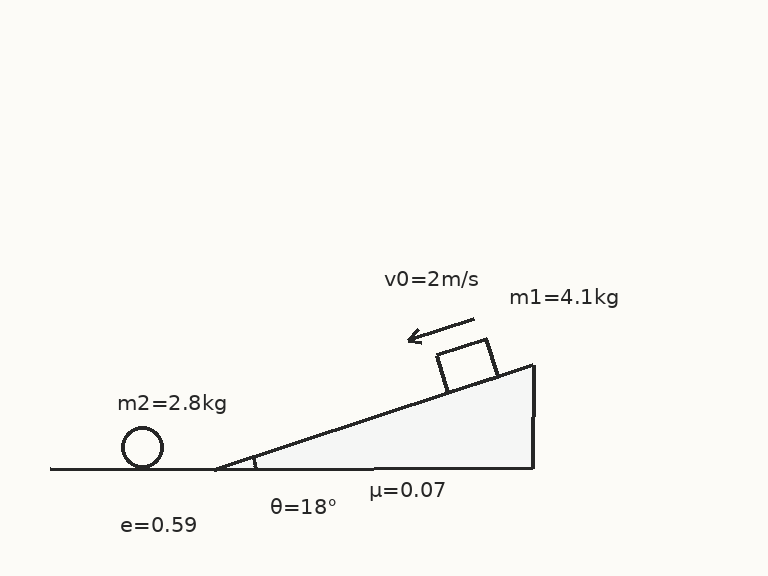ball: (119, 424, 165, 470)
block: (433, 337, 500, 394)
ramp: (213, 363, 535, 470)
